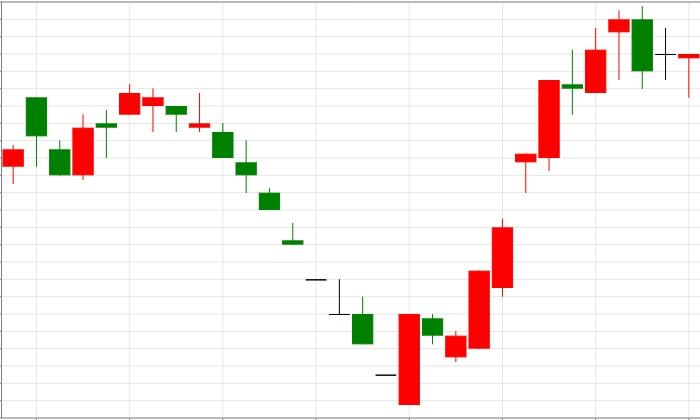bearish_engulfing_fall: (445, 5, 654, 361)
